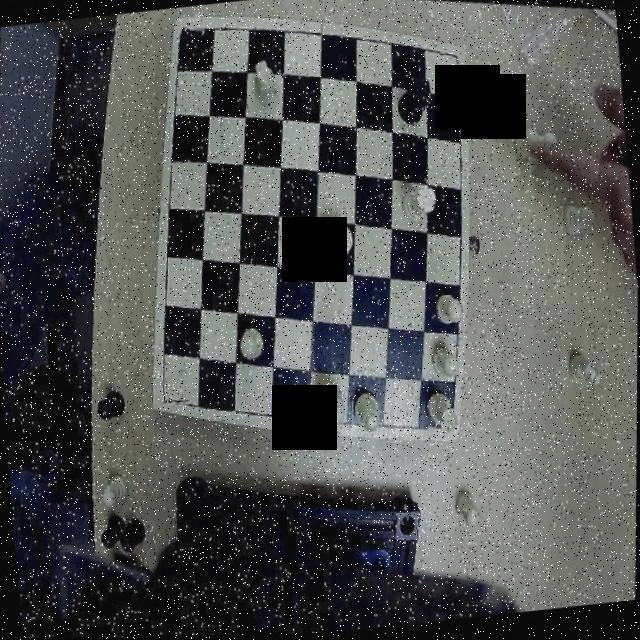chess-table-corners: (154, 376, 191, 416), (426, 407, 462, 443), (172, 18, 206, 56), (437, 46, 465, 77)
